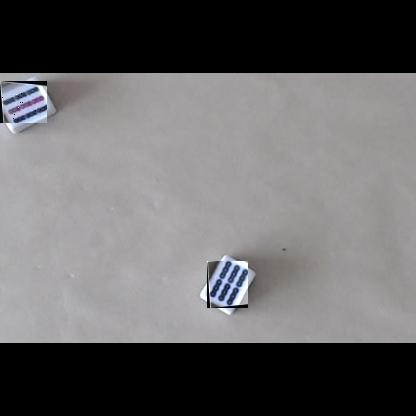6s: (207, 261, 248, 308)
9s: (0, 81, 47, 123)
